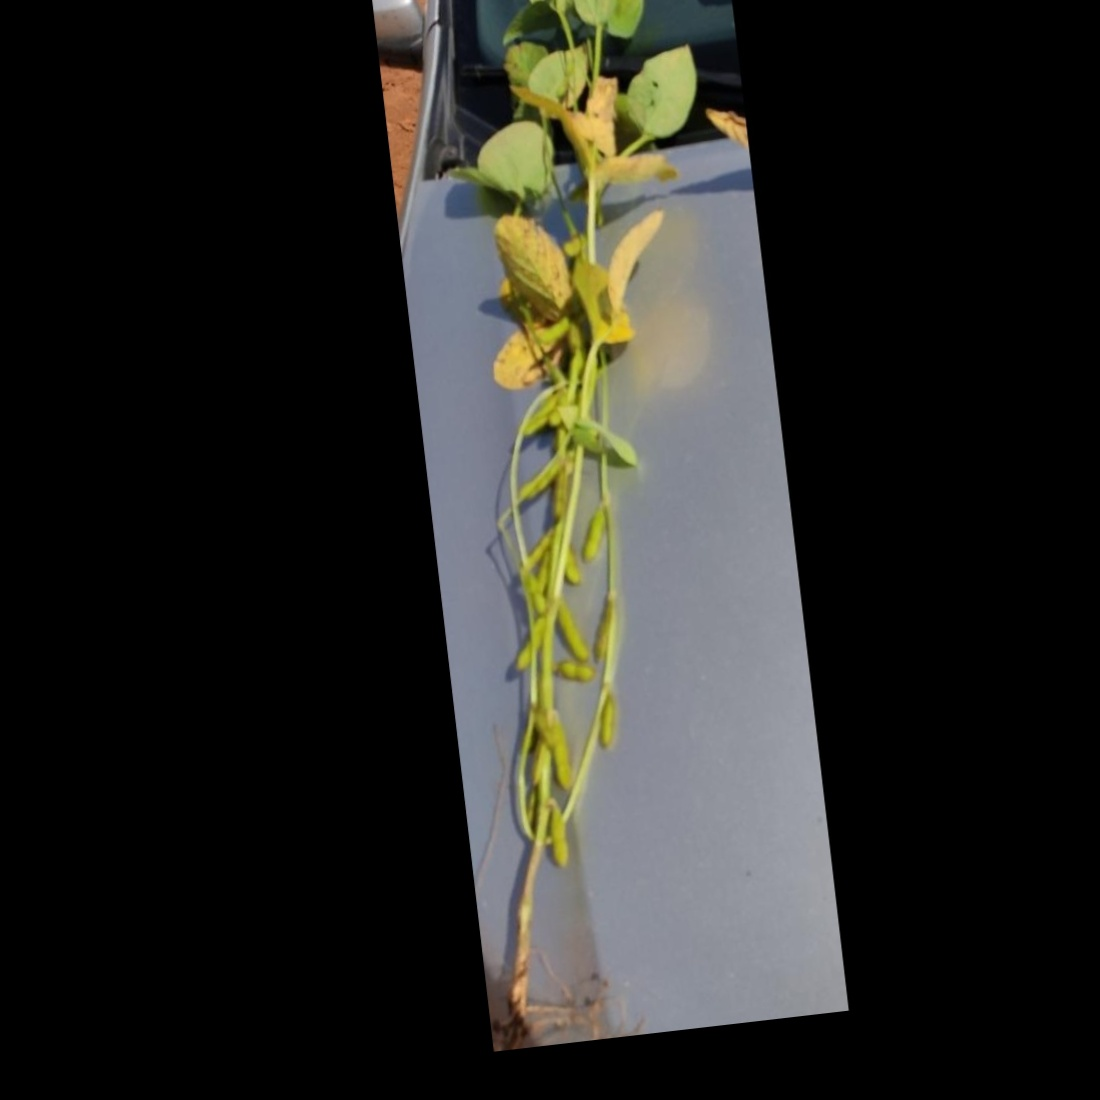pod: (510, 522, 571, 580), (495, 614, 550, 674), (571, 500, 615, 565), (545, 710, 577, 800), (553, 599, 592, 672), (543, 797, 575, 882), (593, 689, 623, 754), (552, 657, 600, 690)
soy: (372, 0, 788, 1053)
